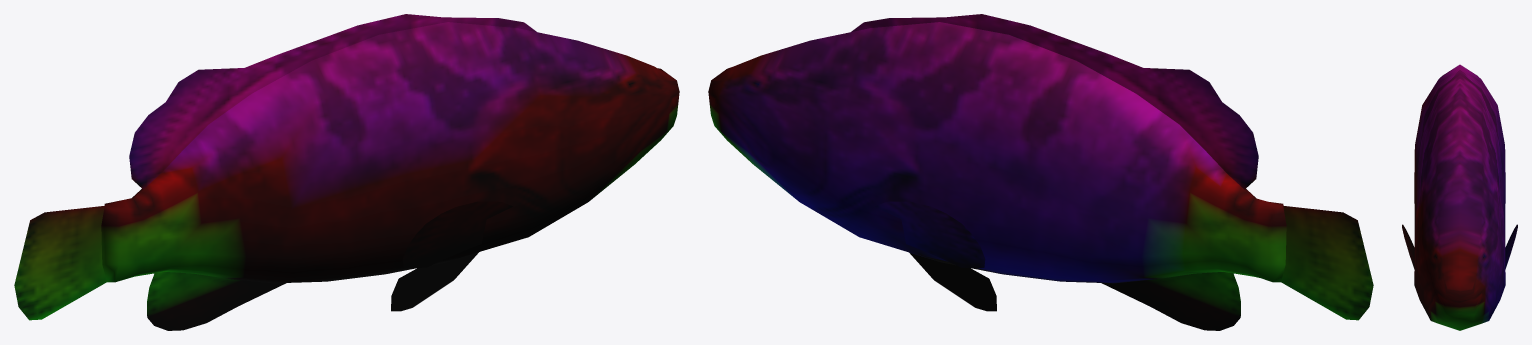
File: goliath_grouper.glb
3 views of the same model, side by side, from view 1: azimuth 30°, elevation 25°; view 2: azimuth 150°, elevation 25°; view 3: azimuth 270°, elevation 25° (orthographic). The views are drawn at different scales.
Visible parts, largest first — view 1: GoliathGrouper; view 2: GoliathGrouper; view 3: GoliathGrouper.
Part boxes in pixels (x1,y1,x2,y2): GoliathGrouper: (14,14,679,330); GoliathGrouper: (708,14,1373,330); GoliathGrouper: (1402,64,1517,330).
Size of the model in its own units: 1 by 0.4289 by 0.1946.
1 material, 1 textured.
